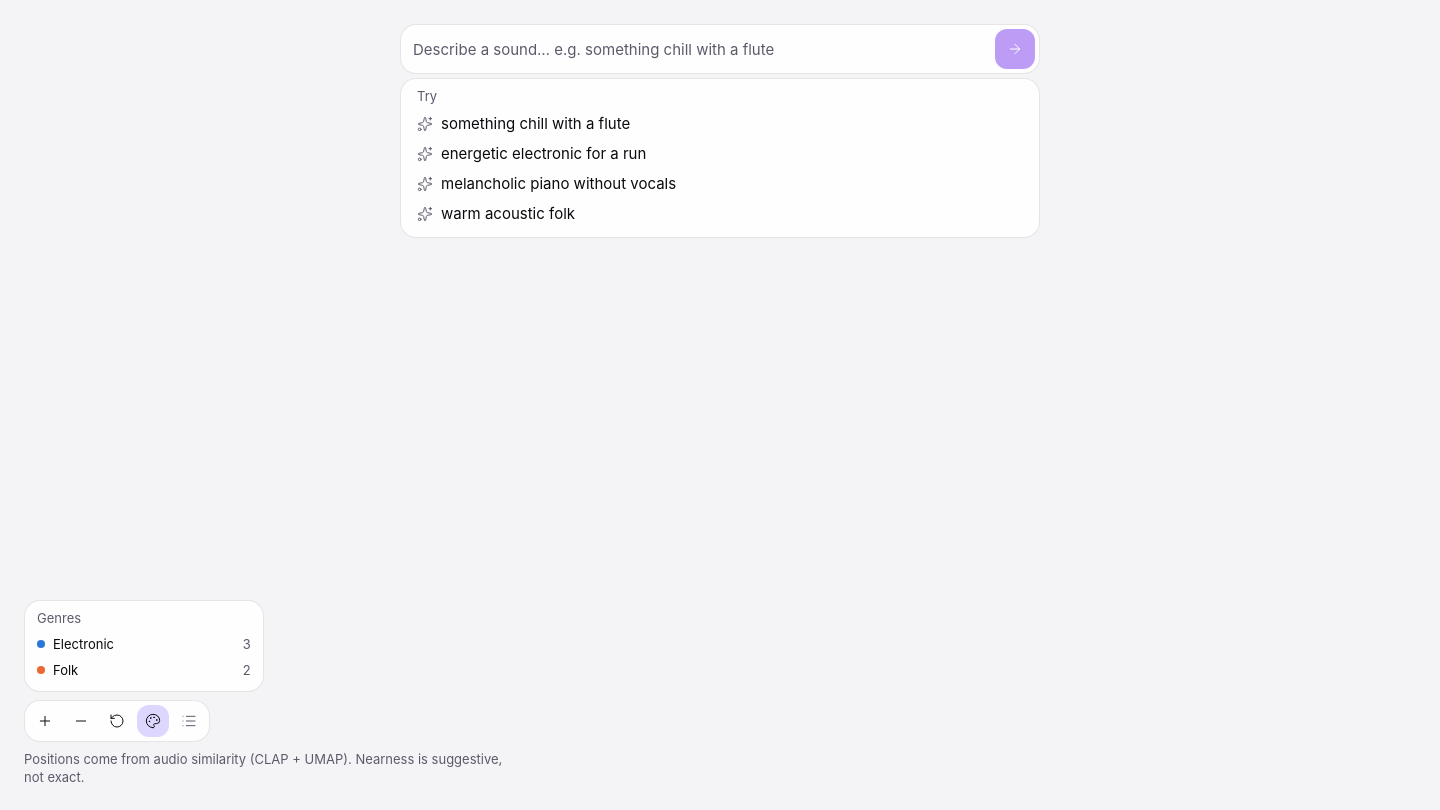
Test case: details drawer › opens from a row with the plate's description and reasons, and returns focus to the row on close
Type "chill flute" into the field named "Search by describing a sound". click: (700, 49)
box: [413, 29, 987, 69]
Then press Enter
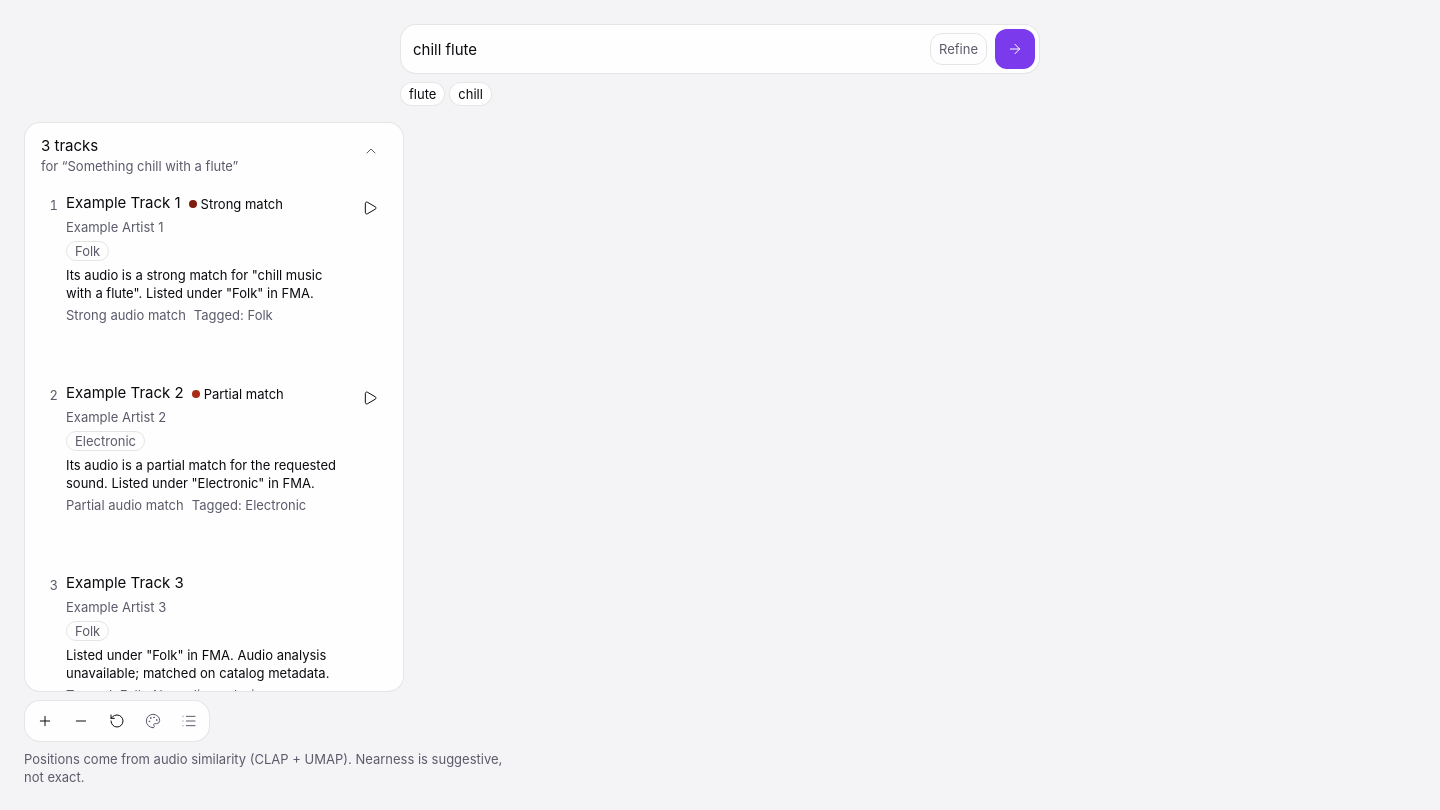
Click the button "Example Track 1". click: (123, 203)
box: [66, 192, 181, 214]
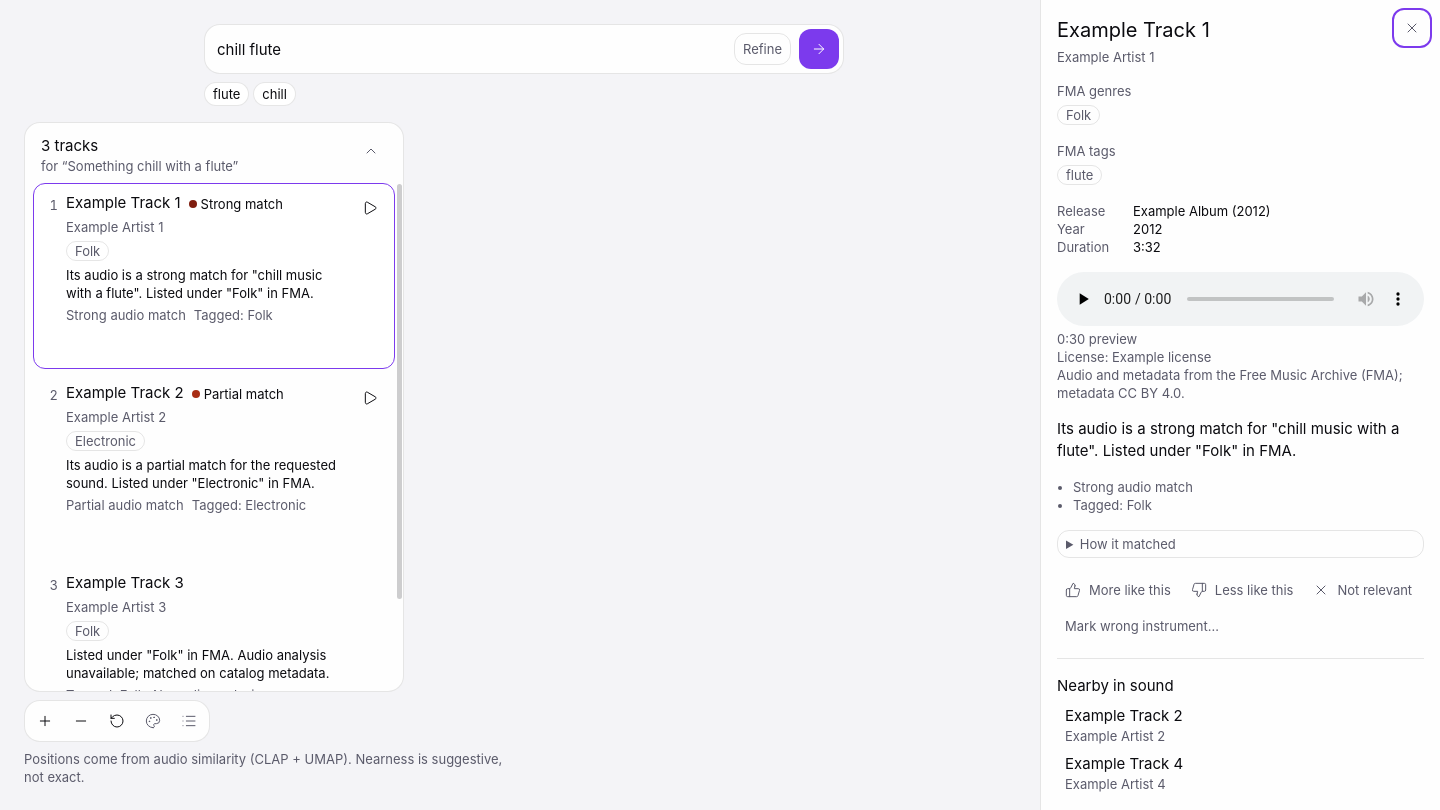
Expected: the heading "Example Track 1" is shown, [1057, 18, 1210, 42]
Expected: the text "Its audio is a strong match for \"chill music with a flute\". Listed under \"Folk\" in FMA." below "License:" is shown, [1057, 419, 1399, 460]
Expected: the heading "How it matched" is shown, [1080, 536, 1176, 552]
Press Escape
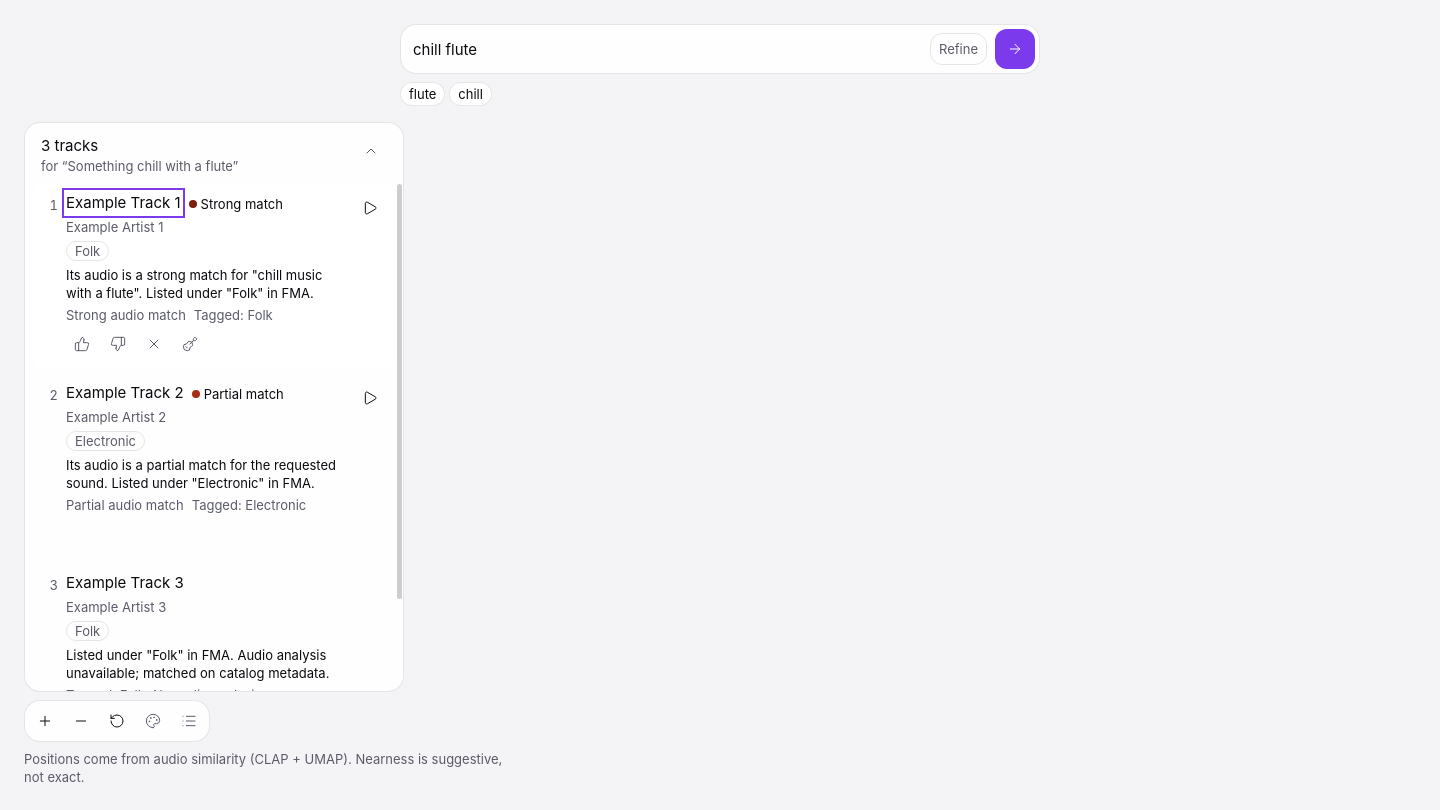
Expected: the dialog is gone
